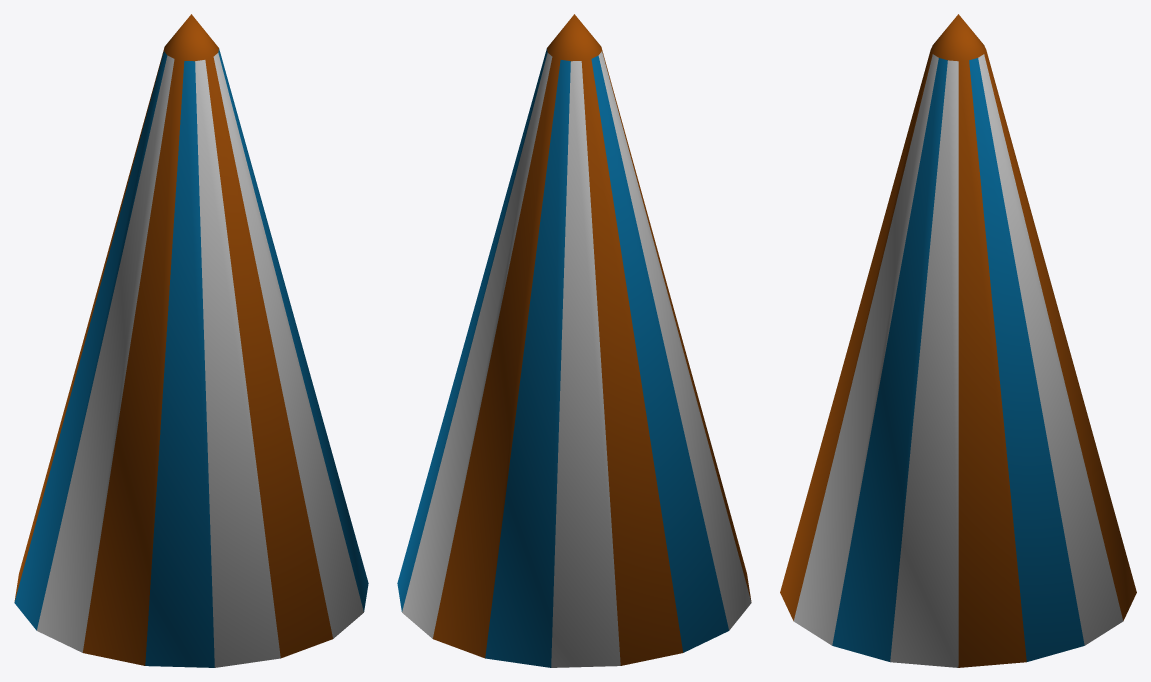
3 views of the same model, side by side, from view 1: azimuth 30°, elevation 25°; view 2: azimuth 150°, elevation 25°; view 3: azimuth 270°, elevation 25° (orthographic).
Parts seen in each view (by area): view 1: 円錐; view 2: 円錐; view 3: 円錐.
Boxes of the visible parts, x1=… form: 円錐: x1=14, y1=14, x2=368, y2=667; 円錐: x1=397, y1=14, x2=751, y2=667; 円錐: x1=780, y1=14, x2=1136, y2=667.
Size of the model in its own units: 110 by 198 by 110.
